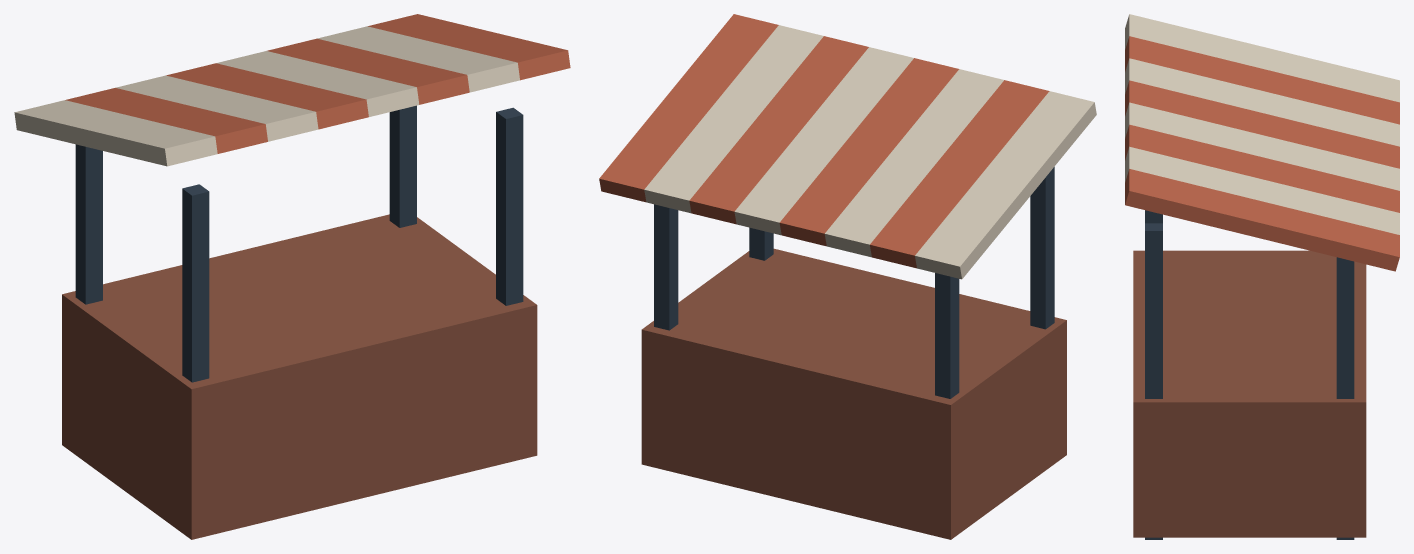
File: market-stall.glb
The picture shows the model from 3 angles, left to right: view 1: azimuth 30°, elevation 25°; view 2: azimuth 150°, elevation 25°; view 3: azimuth 270°, elevation 25°; orthographic projection. The views are drawn at different scales.
Parts seen in each view (by area): view 1: market-stall; view 2: market-stall; view 3: market-stall.
Part boxes in pixels (x1,y1,x2,y2): market-stall: (14, 14, 570, 539); market-stall: (599, 14, 1096, 539); market-stall: (1125, 14, 1399, 539).
Bounding box in the file's own units: 2.8 × 2.69 × 1.84.
